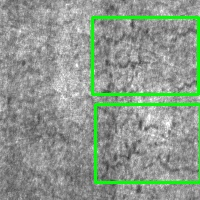crazing: (95, 104, 200, 182), (92, 17, 198, 94)
